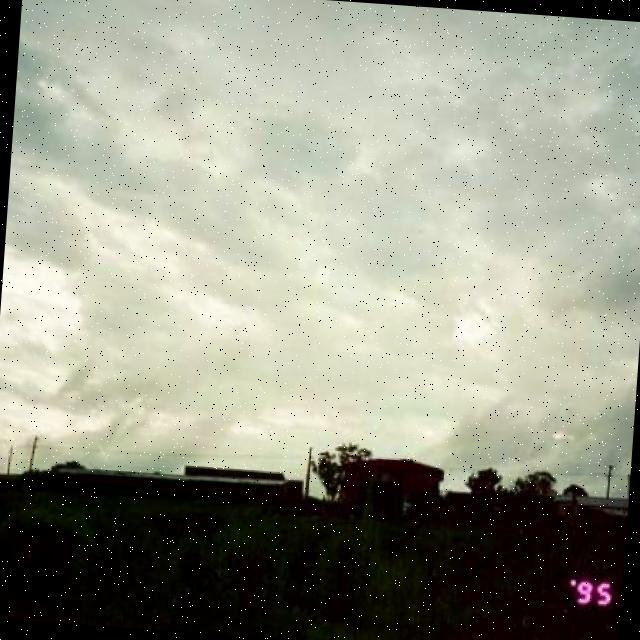St: (1, 7, 640, 461)
